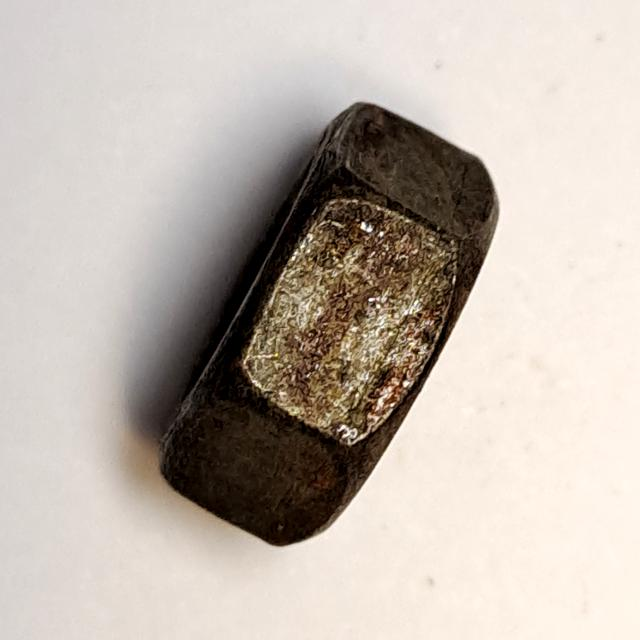Side_Rust: (138, 79, 508, 570)
